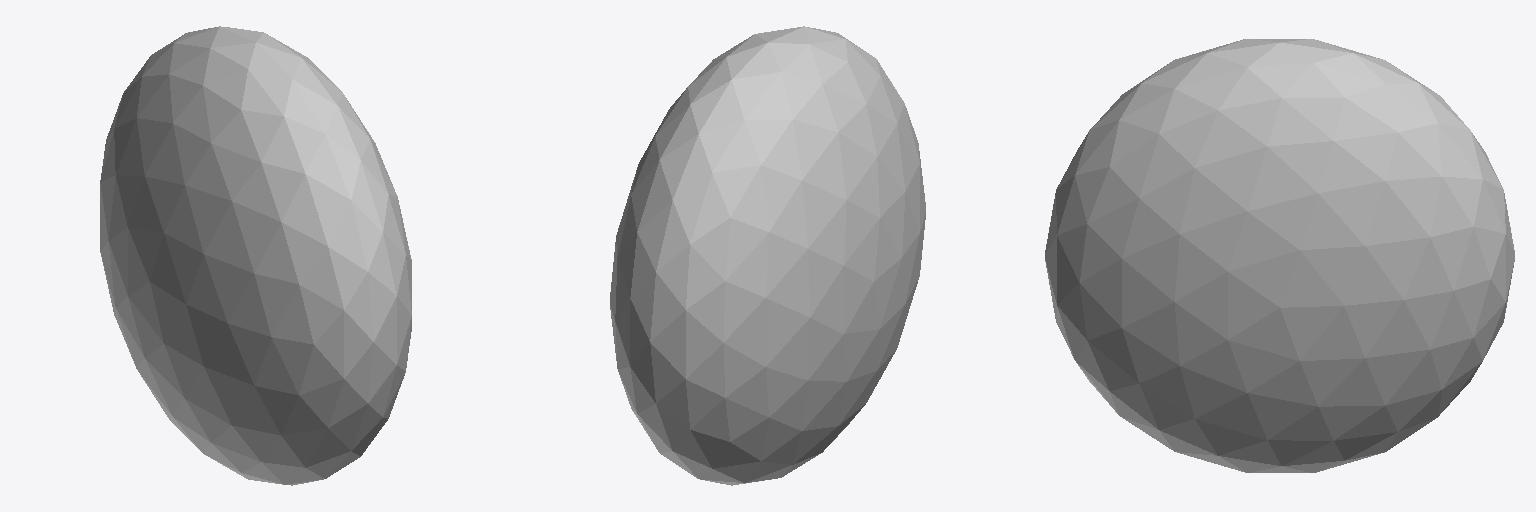
File: vax.obj
The picture shows the model from 3 angles: view 1: azimuth 30°, elevation 25°; view 2: azimuth 150°, elevation 25°; view 3: azimuth 270°, elevation 25°; orthographic projection.
Parts seen in each view (by area): view 1: Mesh Mesh; view 2: Mesh Mesh; view 3: Mesh Mesh.
Boxes of the visible parts, x1,y1,x2,y2 form: Mesh Mesh: [100, 26, 411, 485]; Mesh Mesh: [610, 26, 925, 485]; Mesh Mesh: [1045, 39, 1514, 472].
Bounding box in the file's own units: 0.5295 × 1.02 × 1.02.